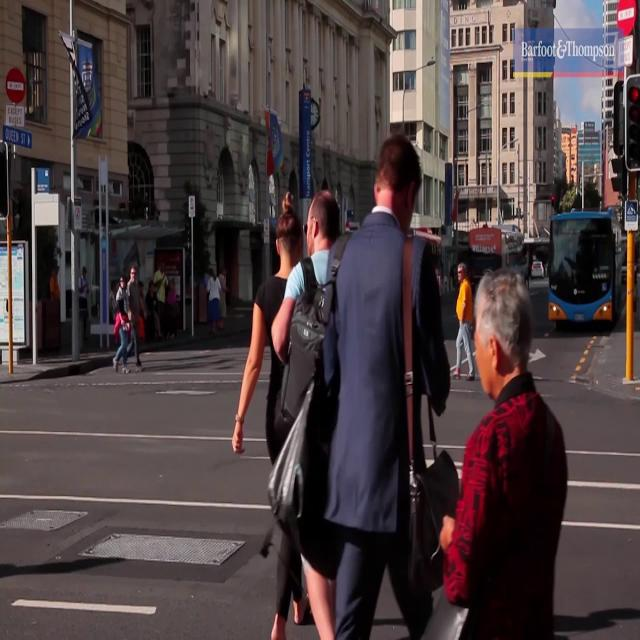body: (322, 131, 452, 640), (439, 267, 570, 640), (230, 185, 312, 639), (271, 188, 341, 639), (449, 263, 475, 382), (126, 264, 146, 373), (111, 275, 132, 377), (153, 260, 170, 335), (144, 276, 162, 341), (205, 268, 221, 336), (76, 264, 90, 338), (167, 276, 181, 340), (137, 280, 151, 342), (218, 264, 230, 332), (196, 250, 218, 285), (49, 263, 61, 303), (523, 262, 531, 290)
